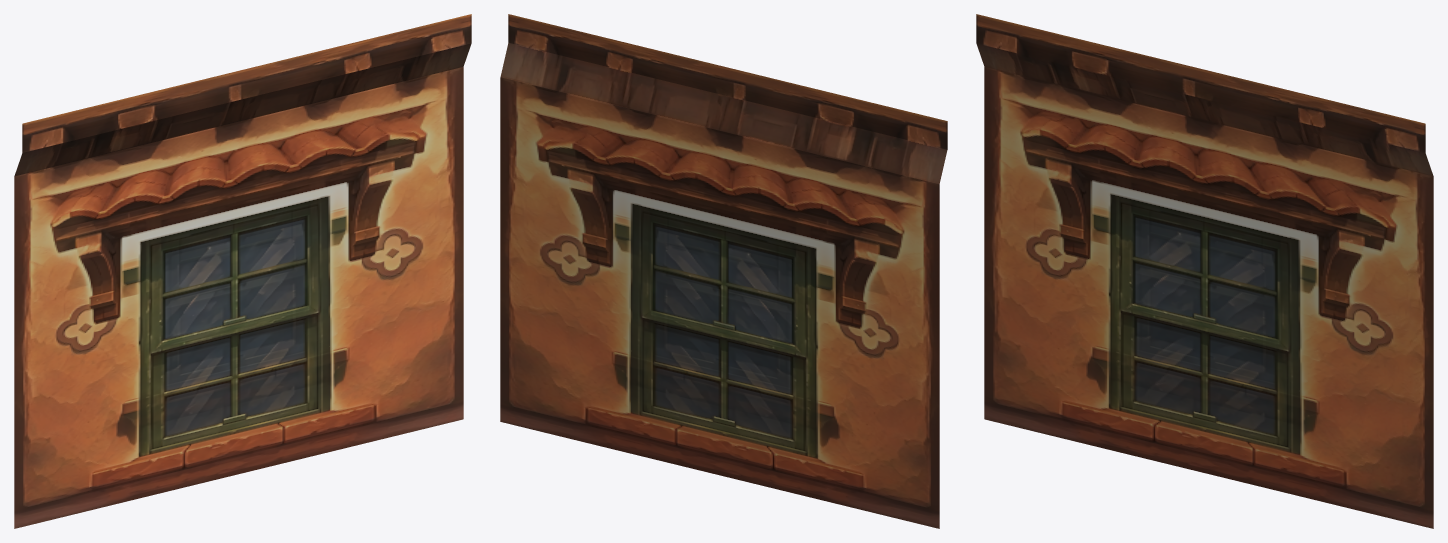
Rendered from MSN_U_Bay4A.fbx.
3 renders of one model, left to right at view 1: azimuth 30°, elevation 25°; view 2: azimuth 150°, elevation 25°; view 3: azimuth 330°, elevation 25°, orthographic. The views are drawn at different scales.
Parts seen in each view (by area): view 1: MSN_U_Bay4A; view 2: MSN_U_Bay4A; view 3: MSN_U_Bay4A.
Boxes of the visible parts, x1=… form: MSN_U_Bay4A: x1=14, y1=14, x2=471, y2=528; MSN_U_Bay4A: x1=500, y1=14, x2=947, y2=528; MSN_U_Bay4A: x1=976, y1=14, x2=1433, y2=528.
Bounding box in the file's own units: 4 × 0.125 × 3.5.
1 material, 1 textured.
